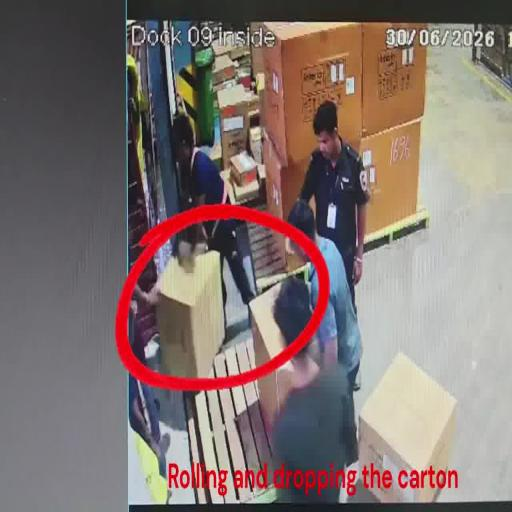carton: (356, 349, 458, 505), (256, 22, 363, 168), (260, 134, 358, 256), (249, 277, 319, 445), (153, 248, 226, 381), (355, 118, 422, 243), (362, 21, 429, 138)
forklift: (126, 20, 198, 511)
pallet: (181, 330, 291, 508), (363, 206, 432, 253)
person: (262, 276, 358, 504), (174, 110, 254, 341), (296, 101, 369, 322), (286, 200, 364, 397)
